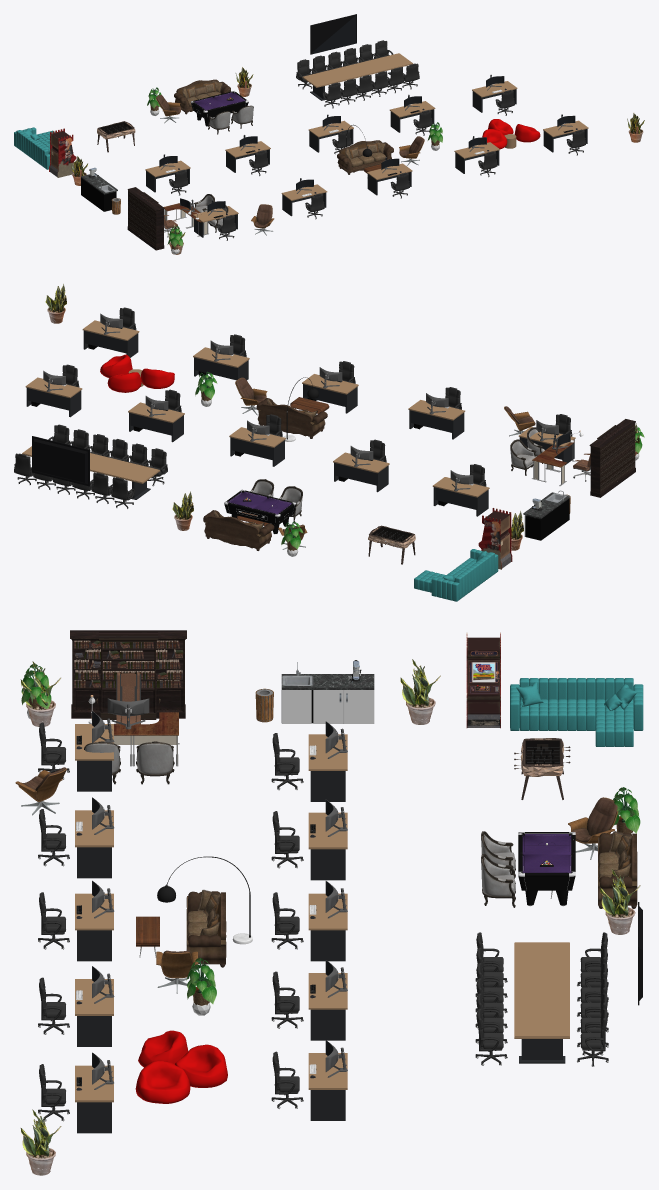
File: office-furniture.glb
3 views of the same model, one above another, from view 1: azimuth 30°, elevation 25°; view 2: azimuth 150°, elevation 25°; view 3: azimuth 270°, elevation 25° (orthographic). The views are drawn at different scales.
Parts seen in each view (by area): view 1: director__bookshelf_0, conference_table_0, tv_0, sofa_1, director__pool_table_0, arcade_0, corner_sofa_0, lower__sofa_0, kitchen_counter_0, desk_3, desk_7, desk_4 (+14 smaller); view 2: director__bookshelf_0, corner_sofa_0, tv_0, director__pool_table_0, lower__sofa_0, sofa_1, kitchen_counter_0, conference_table_0, arcade_0, desk_0, desk_6, desk_4 (+21 smaller); view 3: director__bookshelf_0, corner_sofa_0, conference_table_0, kitchen_counter_0, director__pool_table_0, arcade_0, sofa_1, lower__sofa_0, desk_1, desk_3, desk_2, desk_0 (+39 smaller).
Part boxes in pixels (x1,y1,x2,y2): director__bookshelf_0: [127, 187, 164, 250]; conference_table_0: [302, 53, 413, 100]; tv_0: [310, 14, 356, 54]; sofa_1: [337, 140, 393, 174]; director__pool_table_0: [190, 91, 248, 126]; arcade_0: [49, 128, 76, 177]; corner_sofa_0: [14, 127, 55, 169]; lower__sofa_0: [174, 79, 230, 114]; kitchen_counter_0: [81, 173, 117, 211]; desk_3: [389, 101, 435, 132]; desk_7: [367, 163, 412, 195]; desk_4: [472, 81, 517, 112]; director__bookshelf_0: [589, 419, 635, 497]; corner_sofa_0: [414, 549, 498, 601]; tv_0: [32, 436, 89, 486]; director__pool_table_0: [224, 489, 296, 534]; lower__sofa_0: [203, 510, 274, 550]; sofa_1: [256, 398, 327, 438]; kitchen_counter_0: [523, 490, 569, 540]; conference_table_0: [22, 446, 160, 499]; arcade_0: [478, 508, 512, 569]; desk_0: [432, 477, 489, 516]; desk_6: [408, 400, 465, 439]; desk_4: [25, 377, 82, 417]; director__bookshelf_0: [70, 630, 186, 719]; corner_sofa_0: [510, 678, 643, 746]; conference_table_0: [514, 942, 569, 1063]; kitchen_counter_0: [281, 662, 374, 723]; director__pool_table_0: [518, 832, 575, 906]; arcade_0: [466, 632, 500, 728]; sofa_1: [186, 889, 226, 967]; lower__sofa_0: [598, 831, 637, 908]; desk_1: [308, 812, 347, 880]; desk_3: [308, 973, 347, 1040]; desk_2: [308, 893, 347, 961]; desk_0: [308, 734, 347, 801].
Size of the model in its own units: 22.8 by 2.44 by 12.9.
Materials: 111 (65 with a texture image).
